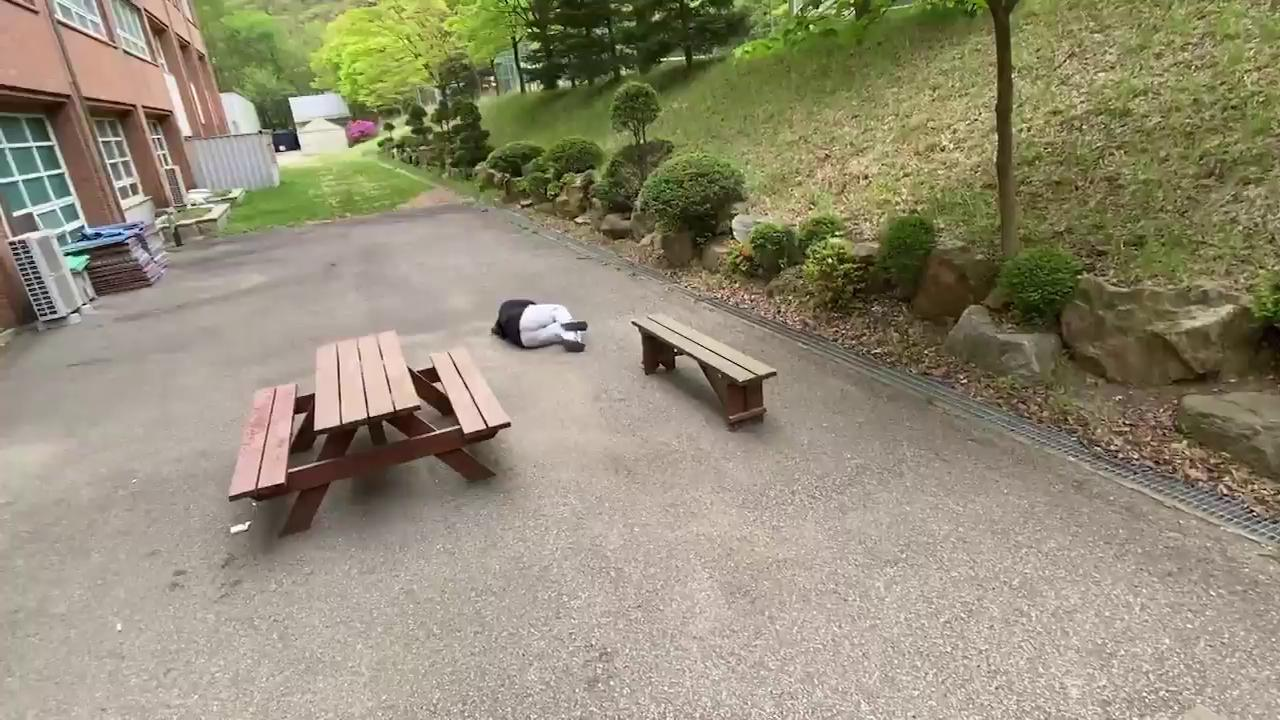faint: (490, 297, 589, 354)
